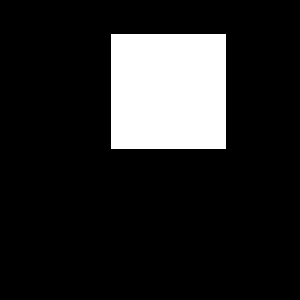circle: (111, 34, 226, 149)
